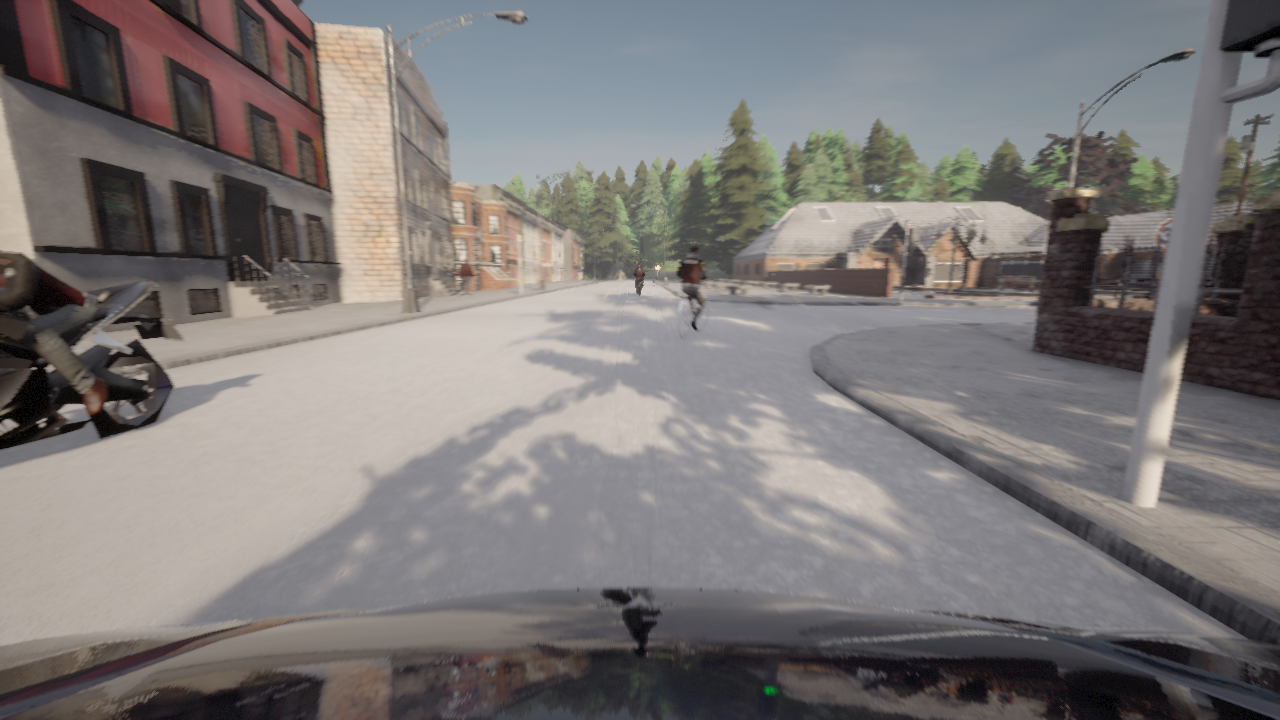cyclist: (0, 588, 1279, 719), (0, 279, 183, 450), (678, 284, 708, 338), (1152, 274, 1208, 298), (637, 285, 642, 291), (639, 284, 640, 285)
pedestrian: (460, 260, 475, 295)
